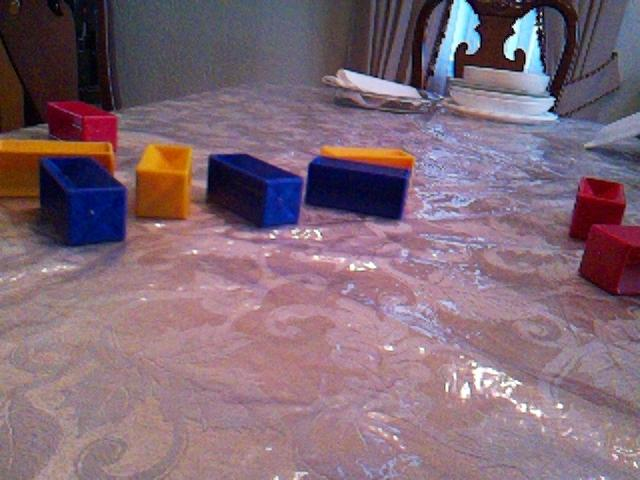blue: (38, 154, 129, 247), (206, 150, 304, 229), (305, 152, 412, 221)
red: (578, 222, 640, 297), (45, 98, 120, 152), (569, 174, 627, 240)
yellow: (1, 137, 116, 198), (134, 142, 194, 221), (320, 144, 416, 171)
